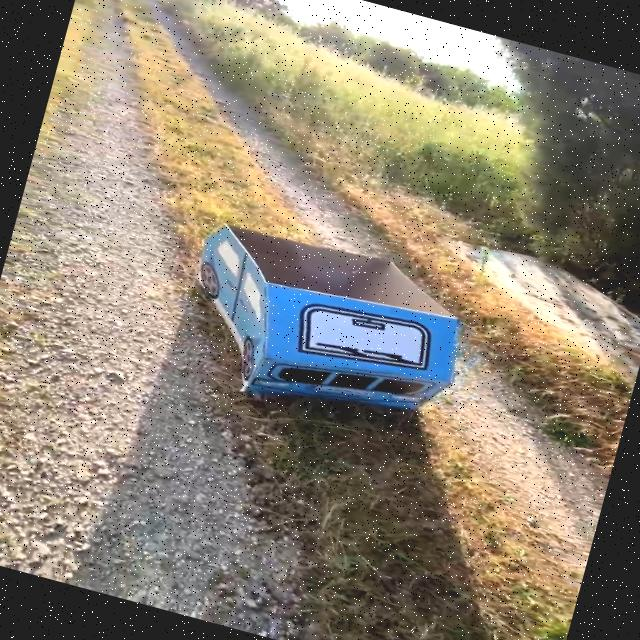blue_car: (110, 157, 544, 475)
